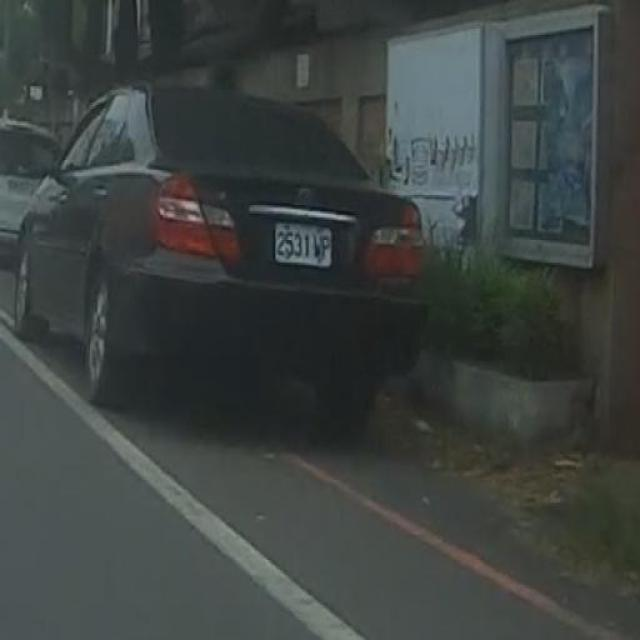illegalparking: (14, 82, 425, 438)
